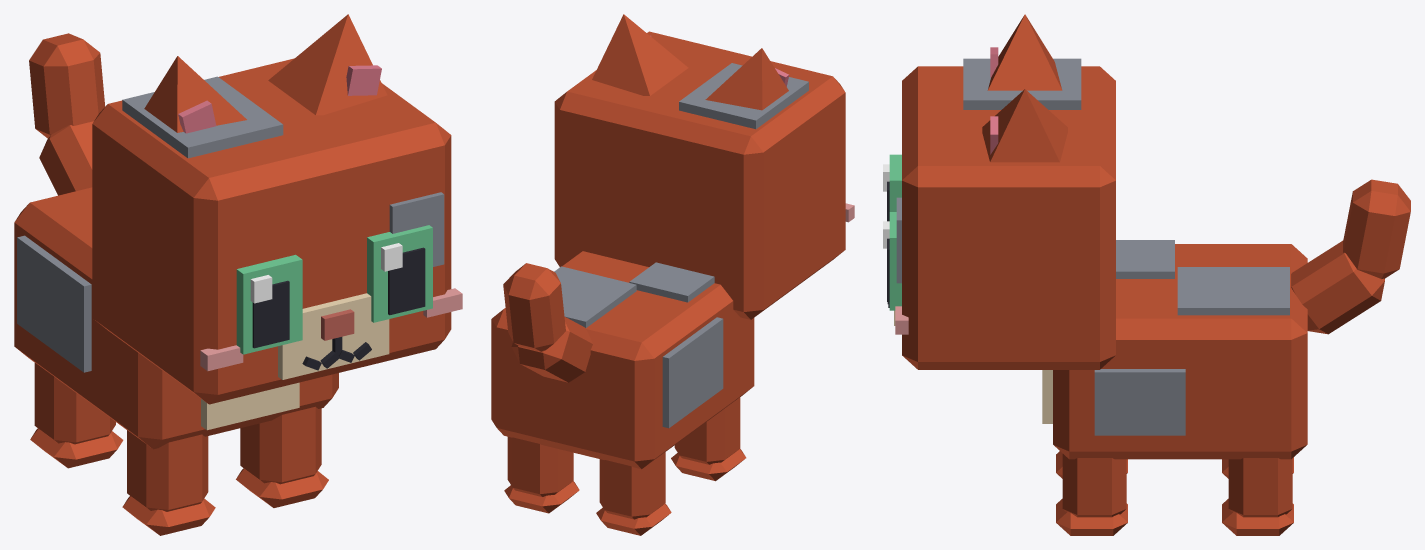
Rendered from CatCafe_Cat_Rusty.glb.
The picture shows the model from 3 angles, left to right: view 1: azimuth 30°, elevation 25°; view 2: azimuth 150°, elevation 25°; view 3: azimuth 270°, elevation 25°; orthographic projection. The views are drawn at different scales.
Parts seen in each view (by area): view 1: CatCafe_Cat_Rusty_Head, CatCafe_Cat_Rusty_Body, CatCafe_Cat_Rusty_Tail, CatCafe_Cat_Rusty_LegF2, CatCafe_Cat_Rusty_LegF1, CatCafe_Cat_Rusty_EarL, CatCafe_Cat_Rusty_Eye2, CatCafe_Cat_Rusty_LegB2, CatCafe_Cat_Rusty_Eye1, CatCafe_Cat_Rusty_EarR; view 2: CatCafe_Cat_Rusty_Head, CatCafe_Cat_Rusty_Body, CatCafe_Cat_Rusty_Tail, CatCafe_Cat_Rusty_LegB2, CatCafe_Cat_Rusty_EarL, CatCafe_Cat_Rusty_LegB1, CatCafe_Cat_Rusty_LegF2, CatCafe_Cat_Rusty_EarR; view 3: CatCafe_Cat_Rusty_Head, CatCafe_Cat_Rusty_Body, CatCafe_Cat_Rusty_Tail, CatCafe_Cat_Rusty_LegF1, CatCafe_Cat_Rusty_LegB1, CatCafe_Cat_Rusty_EarL, CatCafe_Cat_Rusty_EarR, CatCafe_Cat_Rusty_Eye1, CatCafe_Cat_Rusty_Eye2.
Part boxes in pixels (x1,y1,x2,y2): CatCafe_Cat_Rusty_Head: (92, 58, 462, 404); CatCafe_Cat_Rusty_Body: (14, 187, 338, 449); CatCafe_Cat_Rusty_Tail: (29, 33, 105, 195); CatCafe_Cat_Rusty_LegF2: (122, 430, 215, 535); CatCafe_Cat_Rusty_LegF1: (236, 406, 328, 507); CatCafe_Cat_Rusty_EarL: (268, 14, 387, 115); CatCafe_Cat_Rusty_Eye2: (236, 254, 302, 354); CatCafe_Cat_Rusty_LegB2: (30, 362, 123, 468); CatCafe_Cat_Rusty_Eye1: (367, 225, 432, 322); CatCafe_Cat_Rusty_EarR: (144, 56, 246, 133); CatCafe_Cat_Rusty_Head: (554, 31, 854, 319); CatCafe_Cat_Rusty_Body: (491, 251, 754, 469); CatCafe_Cat_Rusty_Tail: (503, 263, 592, 382); CatCafe_Cat_Rusty_LegB2: (596, 452, 671, 535); CatCafe_Cat_Rusty_EarL: (592, 14, 688, 95); CatCafe_Cat_Rusty_LegB1: (504, 437, 579, 513); CatCafe_Cat_Rusty_LegF2: (671, 397, 746, 481); CatCafe_Cat_Rusty_EarR: (705, 48, 789, 110); CatCafe_Cat_Rusty_Head: (887, 58, 1115, 369); CatCafe_Cat_Rusty_Body: (1042, 240, 1307, 459); CatCafe_Cat_Rusty_Tail: (1291, 179, 1410, 334); CatCafe_Cat_Rusty_LegF1: (1056, 454, 1127, 535); CatCafe_Cat_Rusty_LegB1: (1222, 458, 1293, 535); CatCafe_Cat_Rusty_EarL: (982, 89, 1067, 162); CatCafe_Cat_Rusty_EarR: (987, 14, 1062, 90); CatCafe_Cat_Rusty_Eye1: (883, 212, 901, 310); CatCafe_Cat_Rusty_Eye2: (883, 154, 901, 221).
Bounding box in the file's own units: 1 × 1.86 × 1.97.
Materials: 1 (1 with a texture image).
